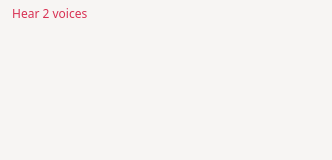
Scenario: PresetVoiceAuditionList › asks for a download instead of buttons when the model is missing
Click the button "Hear 2 voices" at point(50, 14), box left=12, top=6, right=87, bottom=22
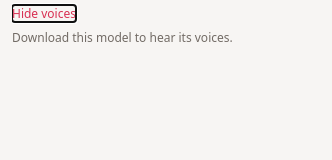
Expected: the text "Download this model to hear its voices." is shown, left=12, top=29, right=233, bottom=46
